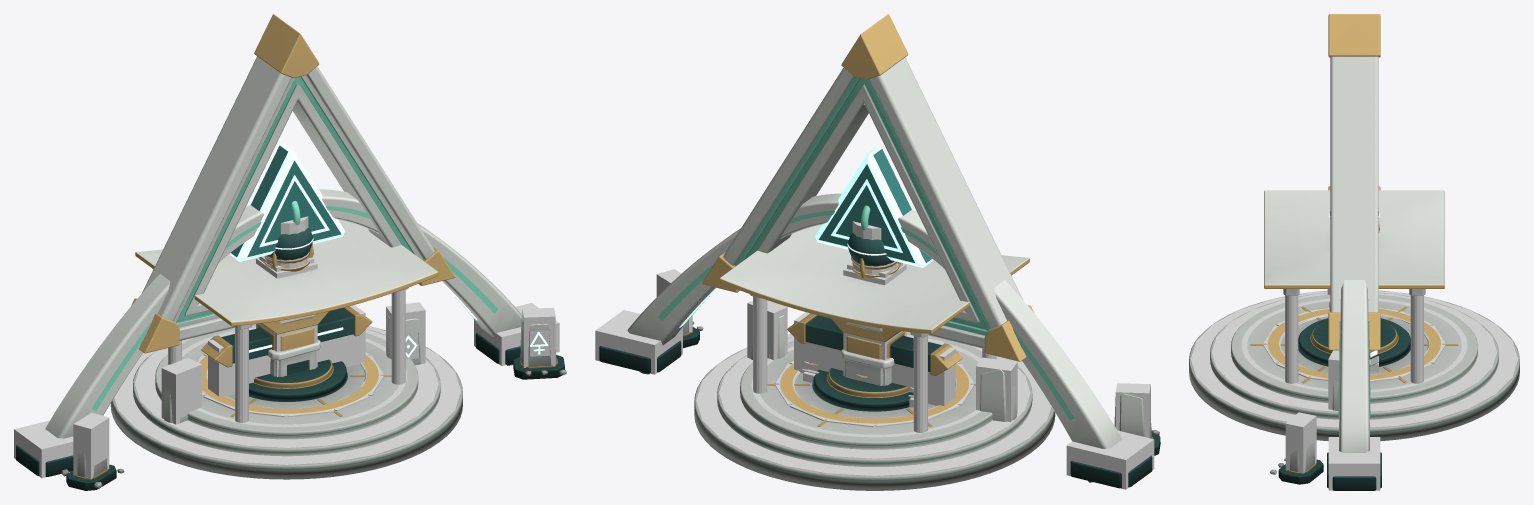
The model's file is landmarks-philosophy.glb.
3 renders of one model, left to right at view 1: azimuth 30°, elevation 25°; view 2: azimuth 150°, elevation 25°; view 3: azimuth 270°, elevation 25°, orthographic. The views are drawn at different scales.
Parts seen in each view (by area): view 1: origin_monument, depth_span, reading_pavilion, COL_CYL_step_0, ANIM_SPIN_core, COL_CYL_step_1, filter_stones, COL_BOX_crossbar, pillar_health, COL_BOX_stone_1, COL_BOX_stone_0, COL_BOX_foot_0 (+8 smaller); view 2: origin_monument, depth_span, reading_pavilion, COL_CYL_step_0, ANIM_SPIN_core, COL_CYL_step_1, filter_stones, COL_BOX_crossbar, pillar_health, COL_BOX_foot_0, COL_BOX_foot_1, COL_CYL_column_lb (+7 smaller); view 3: origin_monument, reading_pavilion, depth_span, COL_CYL_step_0, COL_CYL_step_1, COL_BOX_foot_1, COL_CYL_step_2, COL_BOX_stone_4, filter_stones, COL_CYL_column_rb, COL_CYL_column_rf, COL_BOX_stone_3.
Boxes of the visible parts, bbox=[...] form: origin_monument: bbox=[110, 14, 462, 479]; depth_span: bbox=[16, 189, 522, 476]; reading_pavilion: bbox=[135, 219, 438, 329]; COL_CYL_step_0: bbox=[114, 326, 460, 464]; ANIM_SPIN_core: bbox=[230, 144, 345, 261]; COL_CYL_step_1: bbox=[135, 329, 438, 447]; filter_stones: bbox=[61, 316, 566, 490]; COL_BOX_crossbar: bbox=[208, 305, 365, 396]; pillar_health: bbox=[265, 228, 320, 376]; COL_BOX_stone_1: bbox=[161, 358, 202, 424]; COL_BOX_stone_0: bbox=[73, 412, 109, 479]; COL_BOX_foot_0: bbox=[14, 420, 73, 478]; origin_monument: bbox=[694, 14, 1055, 490]; depth_span: bbox=[599, 193, 1152, 488]; reading_pavilion: bbox=[719, 224, 1029, 397]; COL_CYL_step_0: bbox=[696, 334, 1051, 475]; ANIM_SPIN_core: bbox=[815, 147, 932, 267]; COL_CYL_step_1: bbox=[719, 337, 1030, 458]; filter_stones: bbox=[683, 310, 1160, 455]; COL_BOX_crossbar: bbox=[794, 312, 955, 405]; pillar_health: bbox=[841, 233, 896, 385]; COL_BOX_foot_0: bbox=[1066, 430, 1154, 489]; COL_BOX_foot_1: bbox=[595, 310, 682, 374]; COL_CYL_column_lb: bbox=[913, 335, 927, 432]; origin_monument: bbox=[1189, 14, 1519, 441]; reading_pavilion: bbox=[1264, 190, 1444, 366]; depth_span: bbox=[1267, 280, 1441, 490]; COL_CYL_step_0: bbox=[1191, 291, 1517, 427]; COL_CYL_step_1: bbox=[1212, 293, 1496, 411]; COL_BOX_foot_1: bbox=[1328, 437, 1380, 490]; COL_CYL_step_2: bbox=[1241, 298, 1467, 392]; COL_BOX_stone_4: bbox=[1285, 412, 1316, 473]; filter_stones: bbox=[1270, 292, 1338, 484]; COL_CYL_column_rb: bbox=[1410, 295, 1423, 383]; COL_CYL_column_rf: bbox=[1285, 295, 1298, 383]; COL_BOX_stone_3: bbox=[1328, 350, 1339, 409].
Bounding box in the file's own units: 25.6 × 18.32 × 15.
